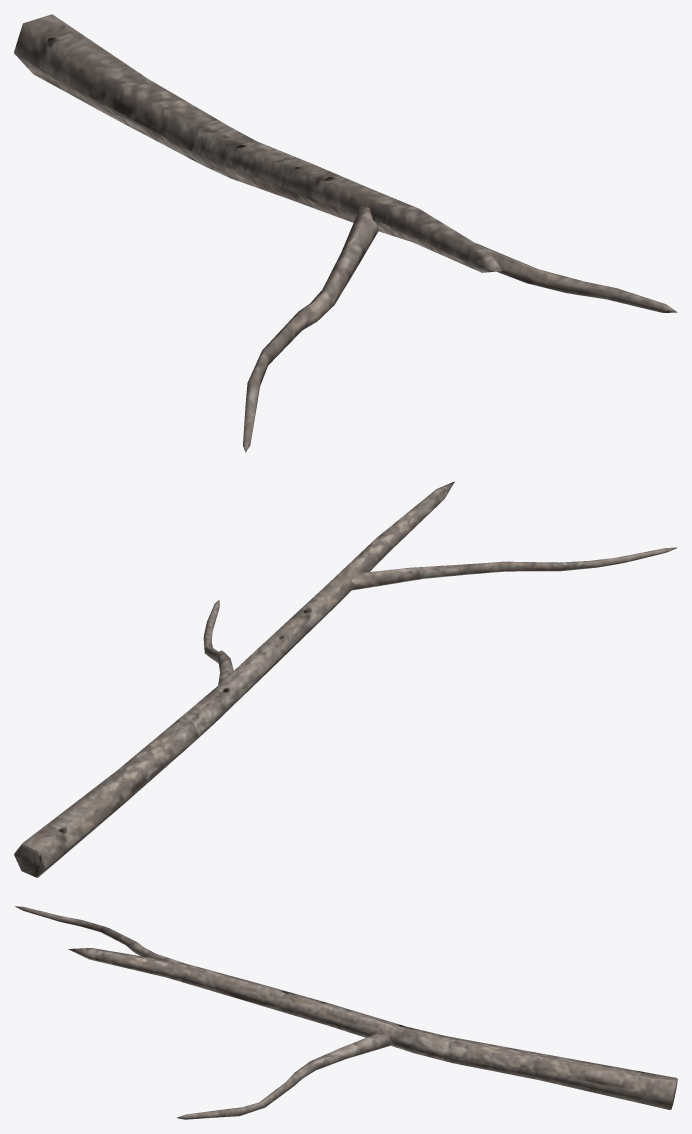
File: SM_BeechStickB_1.fbx
3 views of the same model, one above another, from view 1: azimuth 30°, elevation 25°; view 2: azimuth 150°, elevation 25°; view 3: azimuth 270°, elevation 25° (orthographic). The views are drawn at different scales.
Visible parts, largest first — view 1: BranchThin_2; view 2: BranchThin_2; view 3: BranchThin_2.
Boxes of the visible parts, box(x1,y1,x2,y2) form: BranchThin_2: box(14, 14, 677, 452); BranchThin_2: box(14, 481, 677, 877); BranchThin_2: box(15, 906, 677, 1119).
Size of the model in its own units: 1.35 by 0.5444 by 2.5.
